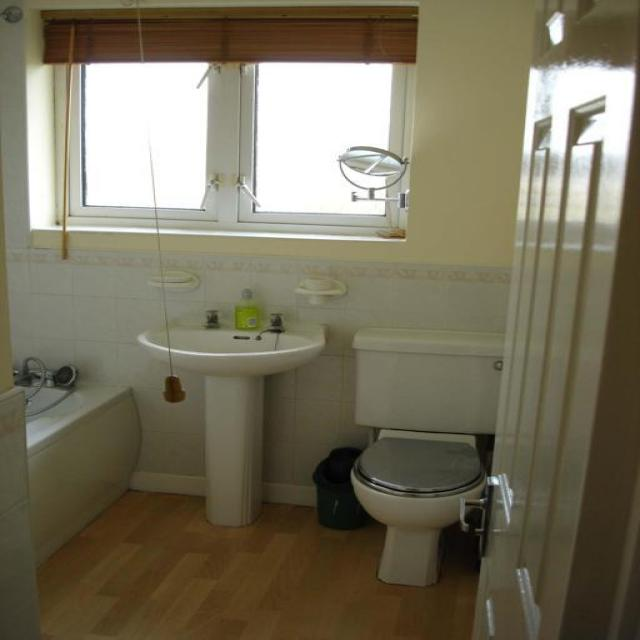door: (468, 1, 638, 638)
faucet: (254, 313, 285, 340), (201, 309, 220, 329)
pots: (311, 446, 370, 529)
window: (35, 7, 417, 241)
